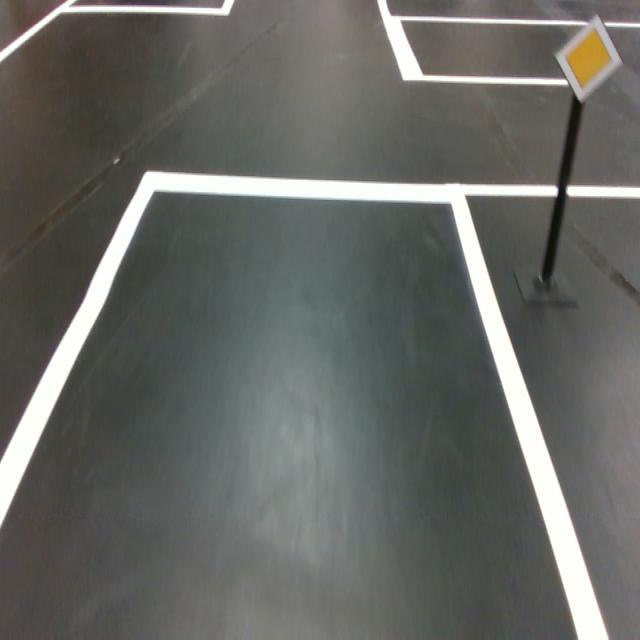priority-sign: (553, 12, 623, 104)
